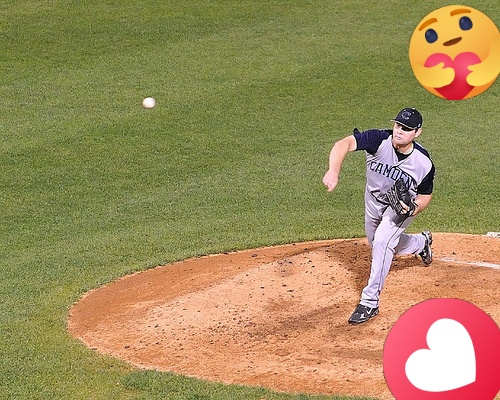care: (409, 5, 500, 100)
love: (383, 298, 500, 400)
